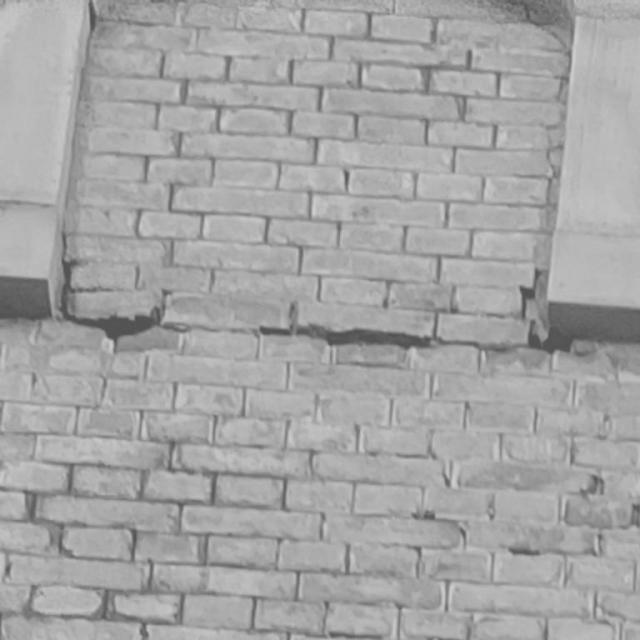crack: (57, 1, 605, 355)
